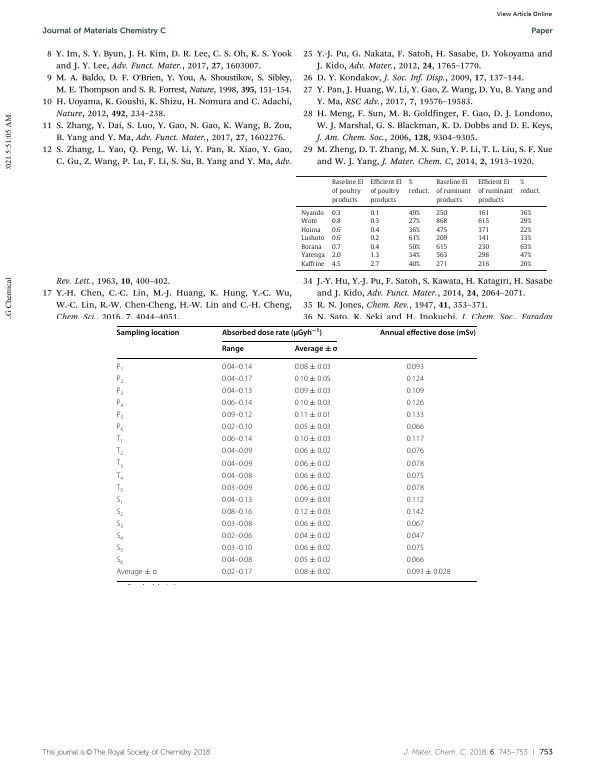borderless: (115, 324, 477, 581), (295, 174, 547, 270)
cell: (221, 327, 323, 338), (379, 328, 477, 338), (435, 179, 472, 204), (477, 179, 514, 204), (331, 179, 364, 204), (370, 179, 403, 204), (116, 328, 180, 338), (294, 344, 338, 354), (406, 568, 452, 577), (115, 568, 158, 577), (294, 362, 332, 372), (294, 374, 332, 384), (294, 483, 332, 493), (294, 495, 332, 505), (519, 179, 542, 195), (408, 179, 430, 195), (294, 387, 332, 396), (294, 399, 332, 408), (294, 411, 332, 420), (294, 423, 332, 432), (294, 435, 332, 444), (294, 447, 332, 456), (294, 459, 332, 468), (294, 471, 332, 480), (294, 508, 332, 517), (294, 520, 332, 529), (294, 532, 332, 541), (294, 544, 332, 553), (294, 556, 332, 565), (294, 568, 332, 577), (221, 362, 253, 372), (221, 374, 253, 384), (221, 483, 253, 493), (221, 495, 253, 505), (221, 387, 253, 396), (221, 399, 253, 408), (221, 411, 253, 420), (221, 423, 253, 432), (221, 435, 253, 444), (221, 447, 253, 456), (221, 459, 253, 468), (221, 471, 253, 480), (221, 508, 253, 517), (221, 520, 253, 529), (221, 532, 253, 541), (221, 544, 253, 553), (221, 556, 253, 565), (221, 568, 253, 577), (221, 344, 245, 354), (300, 260, 326, 269), (300, 234, 325, 243), (300, 252, 326, 260), (300, 209, 325, 217), (406, 362, 425, 372), (406, 374, 425, 384), (406, 483, 425, 493), (406, 495, 425, 505), (300, 243, 323, 251), (300, 226, 322, 234), (406, 387, 425, 396), (406, 399, 425, 408), (406, 411, 425, 420), (406, 423, 425, 432), (406, 435, 425, 444), (406, 447, 425, 456), (406, 459, 425, 468), (406, 471, 425, 480), (406, 508, 425, 517), (406, 520, 425, 529), (406, 532, 425, 541), (406, 544, 425, 553), (406, 556, 425, 565), (300, 217, 318, 226), (408, 217, 421, 226), (435, 217, 448, 226), (477, 217, 490, 226), (519, 217, 532, 226), (408, 234, 421, 243), (435, 234, 448, 243), (477, 234, 490, 243), (519, 234, 532, 243), (408, 260, 421, 269), (435, 260, 448, 269), (477, 260, 490, 269), (519, 260, 532, 269), (408, 209, 421, 217), (435, 209, 448, 217), (477, 209, 490, 217), (519, 209, 532, 217), (408, 226, 421, 234), (435, 226, 448, 234), (477, 226, 490, 234), (519, 226, 532, 234), (408, 243, 421, 251), (435, 243, 448, 251), (477, 243, 490, 251), (519, 243, 532, 251), (408, 252, 421, 260), (435, 252, 448, 260), (477, 252, 490, 260), (519, 252, 532, 260), (331, 217, 342, 226), (331, 234, 342, 243), (331, 260, 342, 269), (115, 435, 124, 446), (115, 447, 124, 458), (115, 459, 124, 470), (115, 471, 124, 482), (115, 483, 124, 494), (115, 495, 124, 506), (115, 544, 124, 555), (115, 556, 124, 567), (370, 217, 380, 226), (370, 234, 380, 243), (370, 260, 380, 269), (115, 508, 124, 518), (115, 520, 124, 530), (115, 532, 124, 542), (331, 209, 342, 217), (331, 226, 342, 234), (331, 243, 342, 251), (331, 252, 342, 260), (116, 362, 124, 373), (116, 374, 124, 385), (116, 423, 124, 434), (370, 209, 380, 217), (370, 226, 380, 234), (370, 243, 380, 251), (370, 252, 380, 260), (116, 387, 124, 397), (116, 399, 124, 409), (116, 411, 124, 421)
